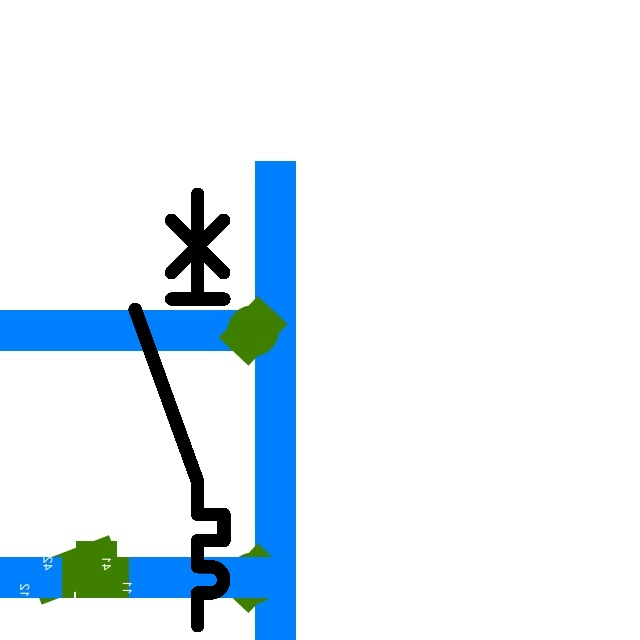interruptor_termomagnetico: (124, 183, 235, 637)
